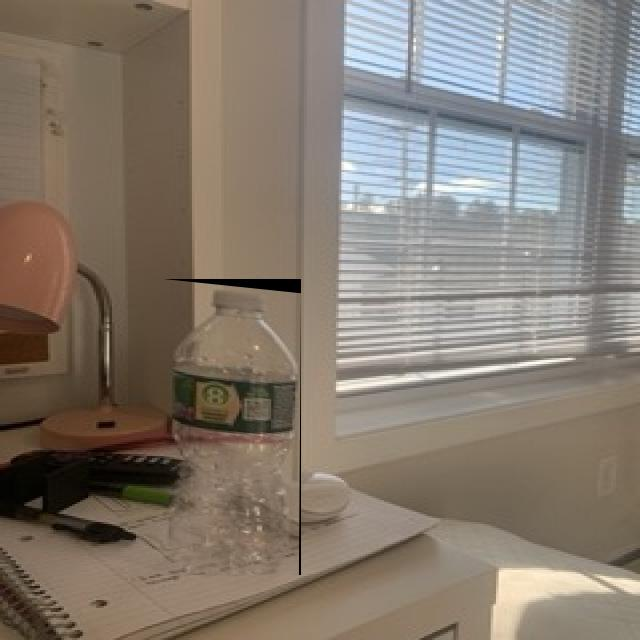water_bottle: (163, 279, 301, 575)
